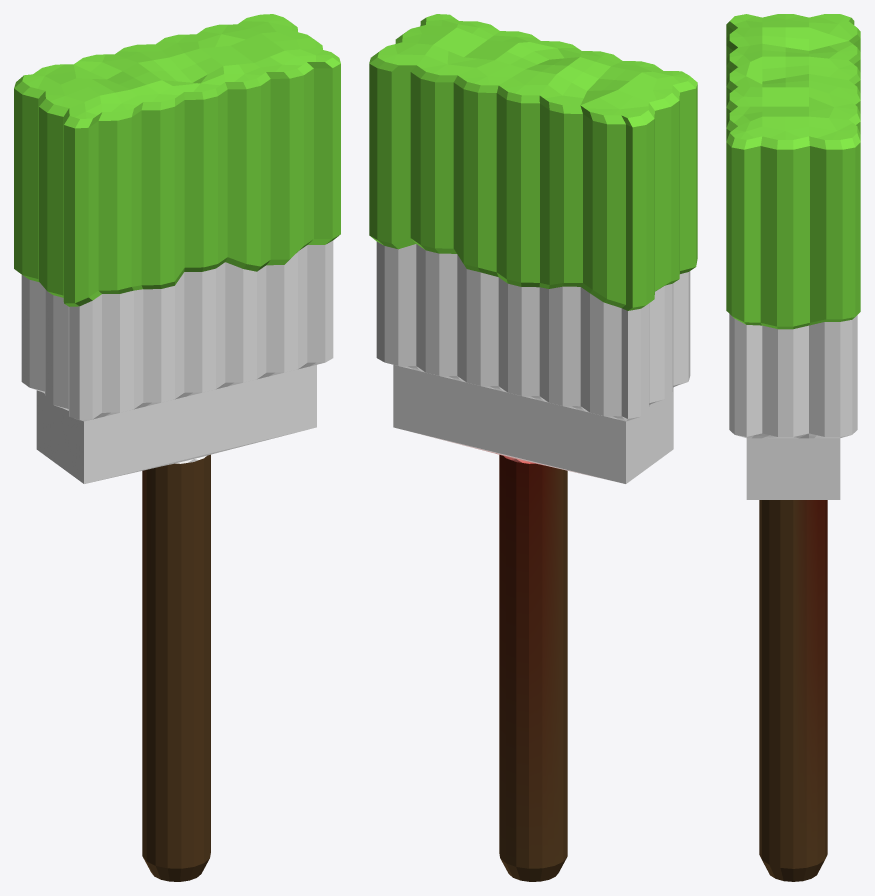
File: PaintBrush.fbx
3 views of the same model, side by side, from view 1: azimuth 30°, elevation 25°; view 2: azimuth 150°, elevation 25°; view 3: azimuth 270°, elevation 25° (orthographic).
Parts seen in each view (by area): view 1: Cube; view 2: Cube; view 3: Cube.
Boxes of the visible parts, x1,y1,x2,y2 form: Cube: (14,14,340,881); Cube: (369,14,697,881); Cube: (726,14,860,881).
Bounding box in the file's own units: 920 × 2586 × 394.
